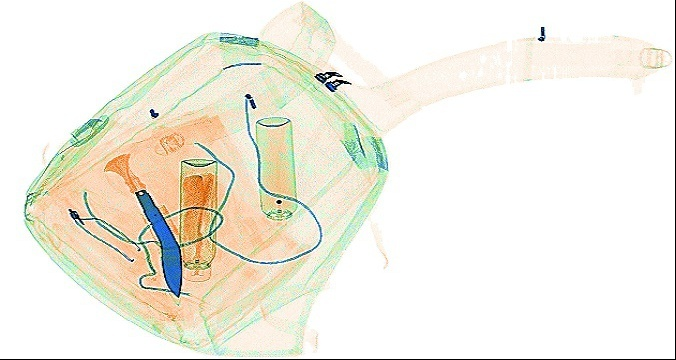knife: (101, 151, 181, 305)
pressure: (253, 114, 297, 228), (178, 156, 218, 281)
